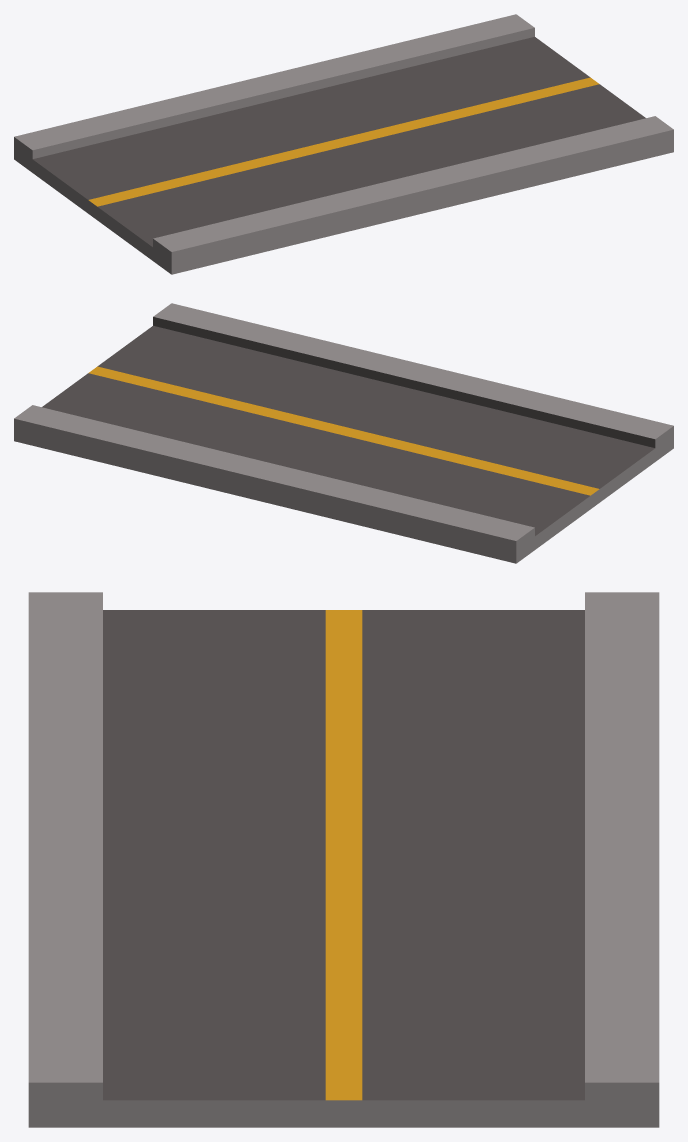
Rendered from Way.fbx.
The picture shows the model from 3 angles, top to bottom: view 1: azimuth 30°, elevation 25°; view 2: azimuth 150°, elevation 25°; view 3: azimuth 270°, elevation 25°; orthographic projection. The views are drawn at different scales.
Visible parts, largest first — view 1: Way(1).001; view 2: Way(1).001; view 3: Way(1).001.
Part boxes in pixels (x1=…): Way(1).001: x1=14, y1=14, x2=673, y2=274; Way(1).001: x1=14, y1=303, x2=673, y2=563; Way(1).001: x1=28, y1=592, x2=659, y2=1127.
Size of the model in its own units: 940 by 40.46 by 511.
